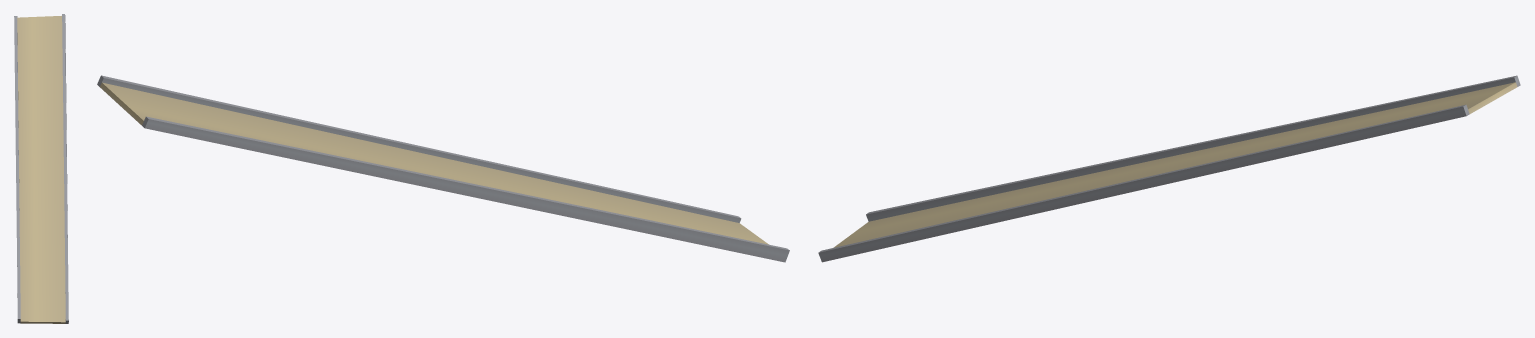
Rendered from sidewalk_14.fbx.
3 renders of one model, left to right at view 1: azimuth 30°, elevation 25°; view 2: azimuth 150°, elevation 25°; view 3: azimuth 270°, elevation 25°, orthographic. The views are drawn at different scales.
Parts seen in each view (by area): view 1: sidewalk_13; view 2: sidewalk_13; view 3: sidewalk_13.
Part boxes in pixels (x1,y1,x2,y2): sidewalk_13: (14, 14, 68, 323); sidewalk_13: (97, 75, 789, 262); sidewalk_13: (818, 75, 1520, 262).
Bounding box in the file's own units: 1.43 × 1.07 × 2.2.
Materials: 1 (1 with a texture image).
